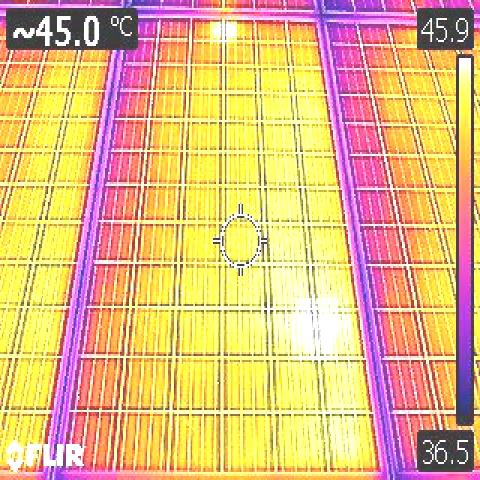fault: (292, 298, 338, 361), (210, 21, 237, 44)
